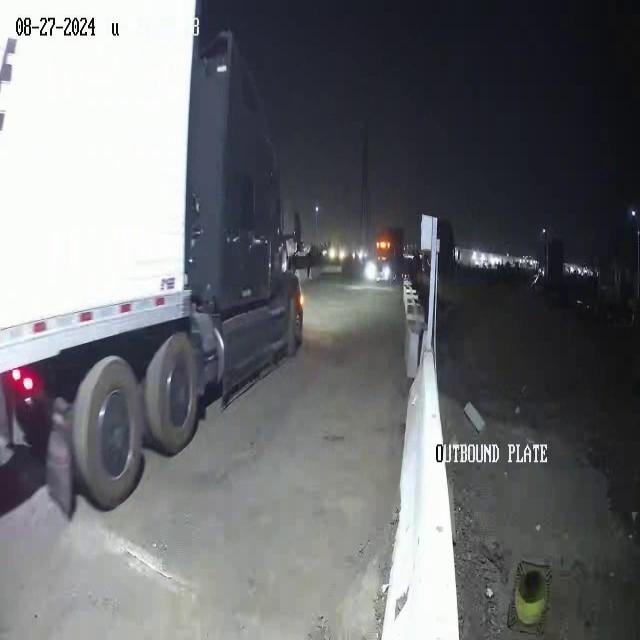TRUCK_CONTAINER: (1, 3, 305, 516)
